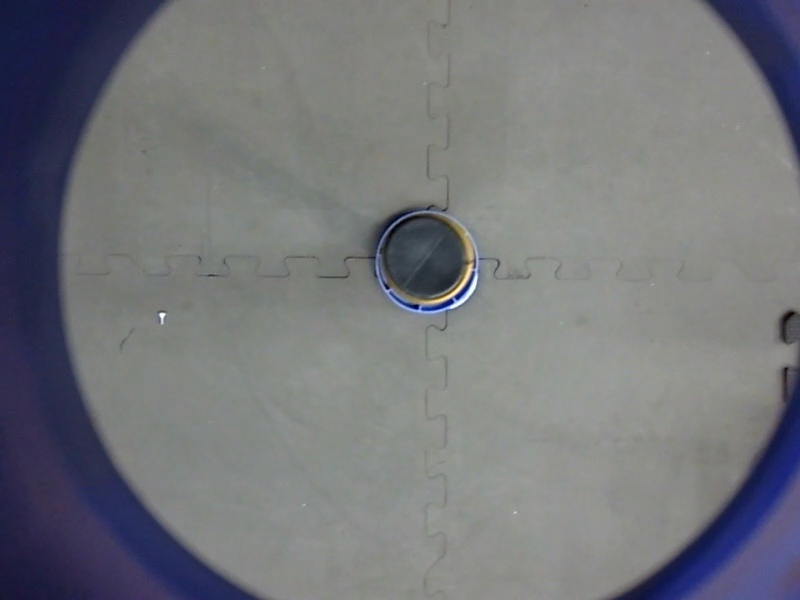tip: (375, 203, 479, 314)
